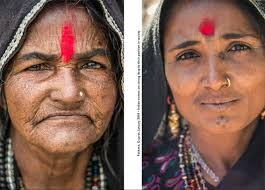indian_female: (4, 1, 127, 161)
